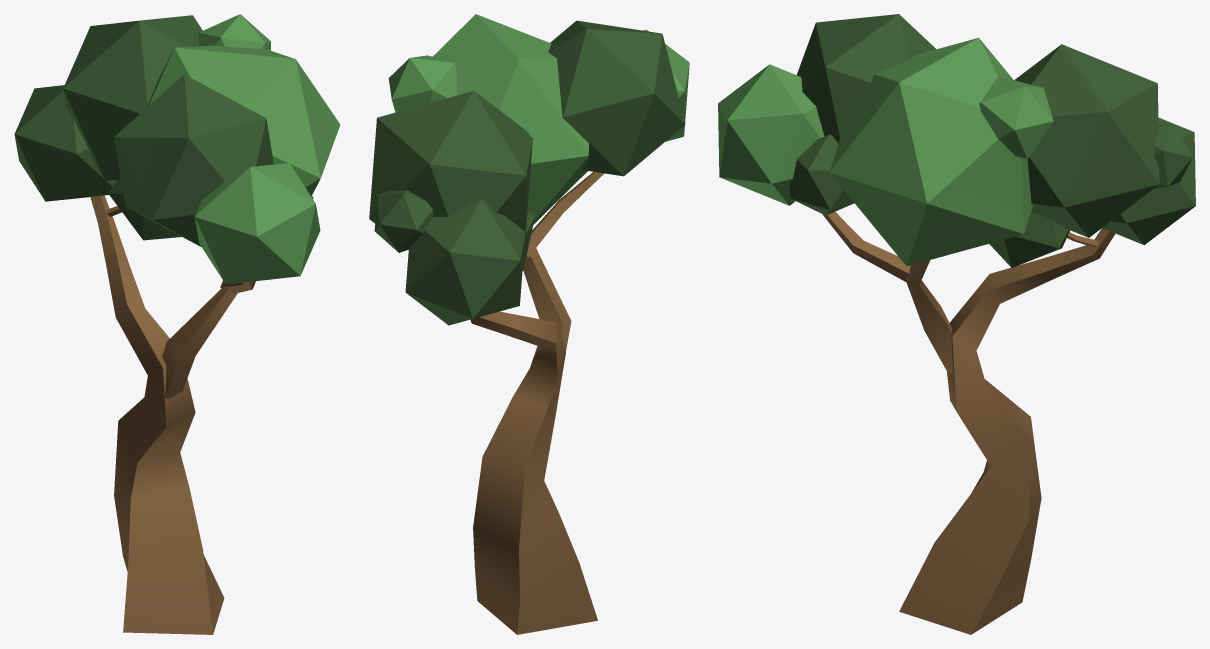
File: Arbre_02.fbx
The picture shows the model from 3 angles, left to right: view 1: azimuth 30°, elevation 25°; view 2: azimuth 150°, elevation 25°; view 3: azimuth 270°, elevation 25°; orthographic projection. The views are drawn at different scales.
Parts seen in each view (by area): view 1: Arbre_02; view 2: Arbre_02; view 3: Arbre_02.
Part boxes in pixels (x1=…): Arbre_02: x1=14, y1=14, x2=340, y2=634; Arbre_02: x1=369, y1=14, x2=689, y2=634; Arbre_02: x1=718, y1=14, x2=1195, y2=634.
Bounding box in the file's own units: 232 × 527 × 392.
Materials: 1 (1 with a texture image).
